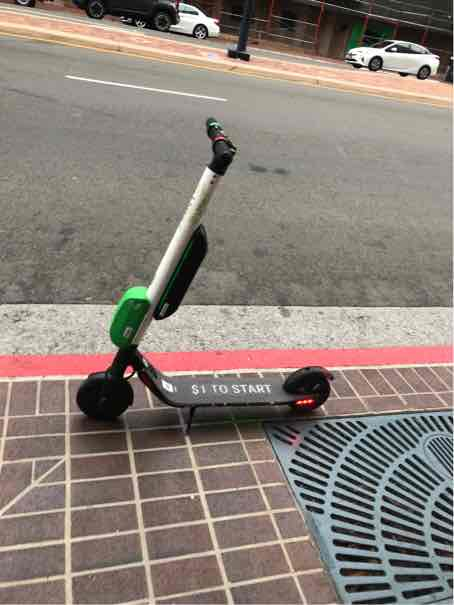scooter: (56, 112, 344, 422)
